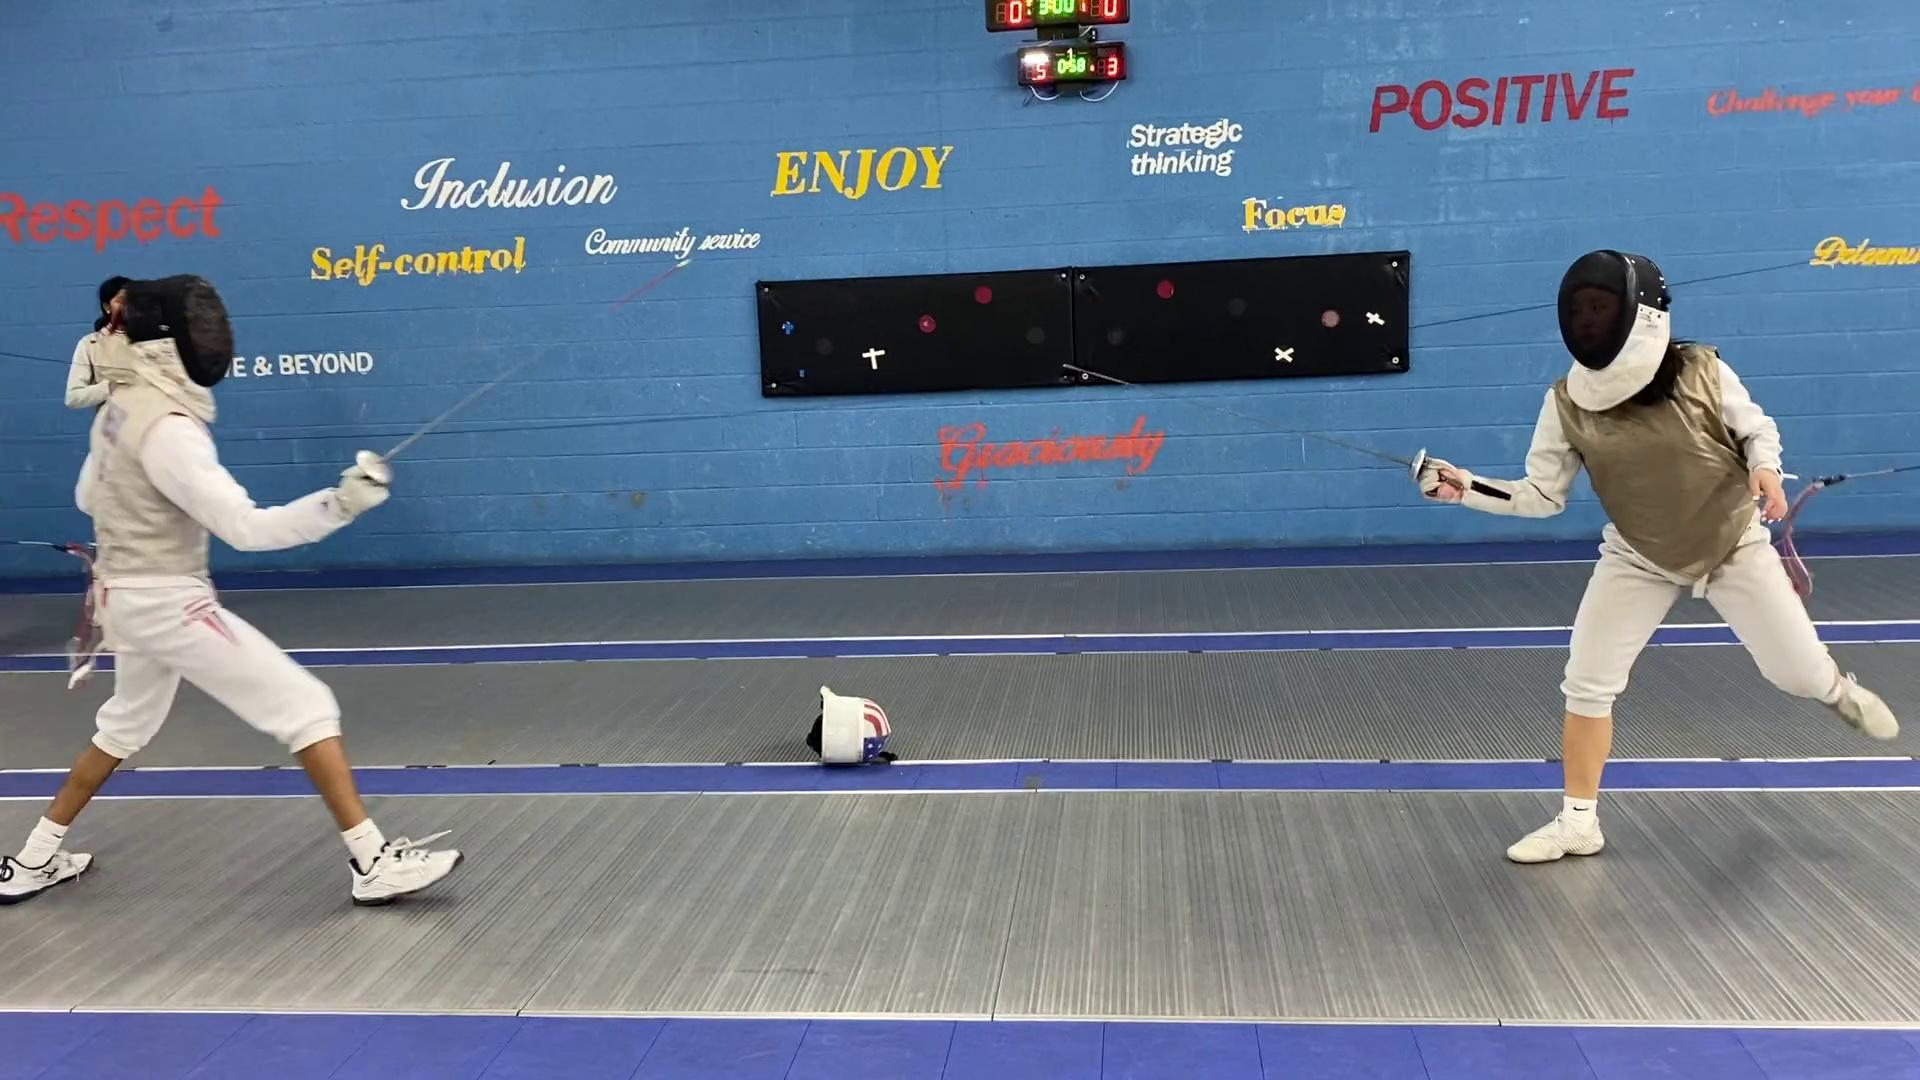blade-guard: (349, 446, 400, 489), (1404, 440, 1429, 485)
blade-tip: (607, 251, 699, 316), (1062, 361, 1135, 392)
fencing-blade: (343, 252, 700, 498), (1059, 357, 1466, 508)
